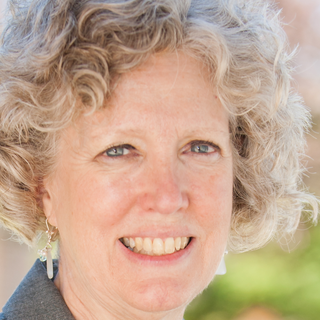eye: (87, 138, 147, 166), (175, 135, 228, 163)
